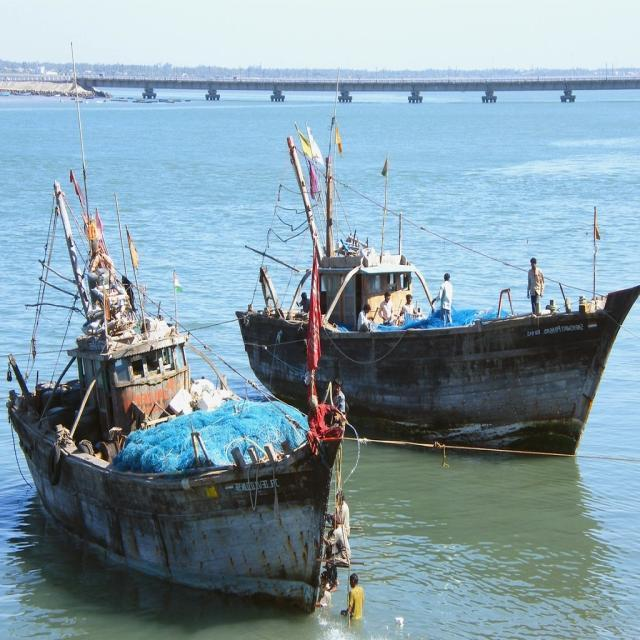boat: (0, 318, 349, 614), (232, 262, 640, 456)
